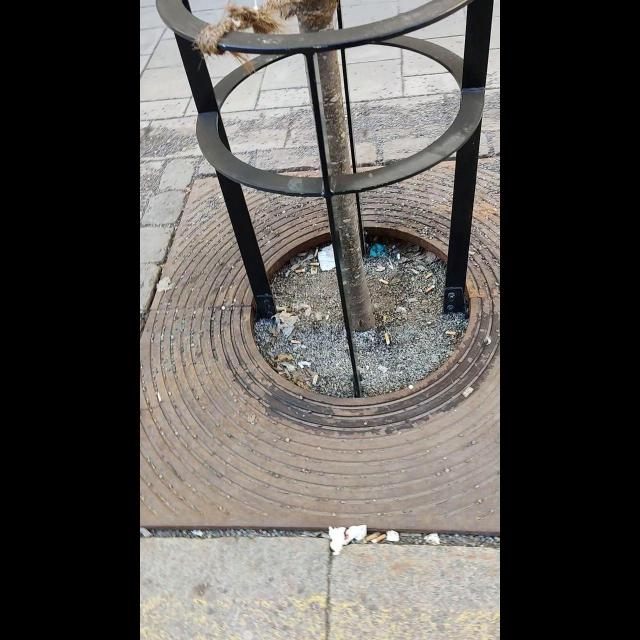cigarette: (463, 387, 474, 399), (374, 534, 386, 542), (363, 534, 374, 542), (384, 333, 390, 345), (374, 265, 386, 271), (379, 278, 390, 284), (426, 286, 435, 293), (312, 375, 318, 385), (290, 339, 300, 344), (446, 331, 457, 335), (425, 273, 431, 280), (313, 248, 318, 256), (308, 263, 320, 266), (294, 269, 305, 272)
